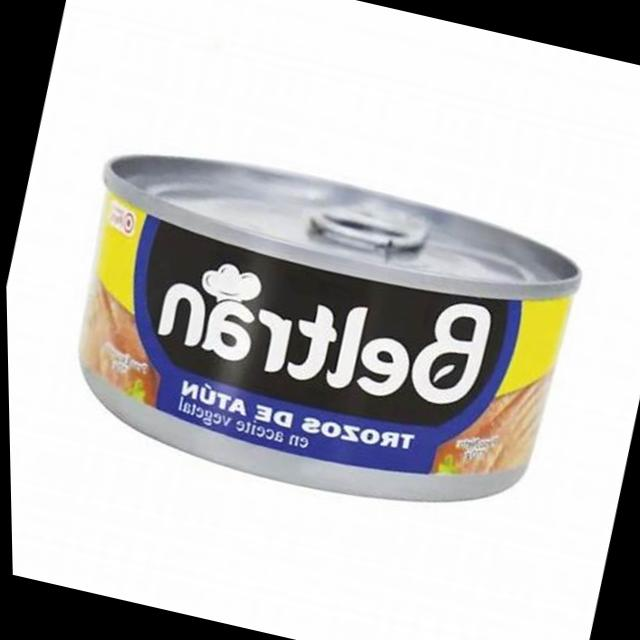Lata: (38, 113, 609, 547)
